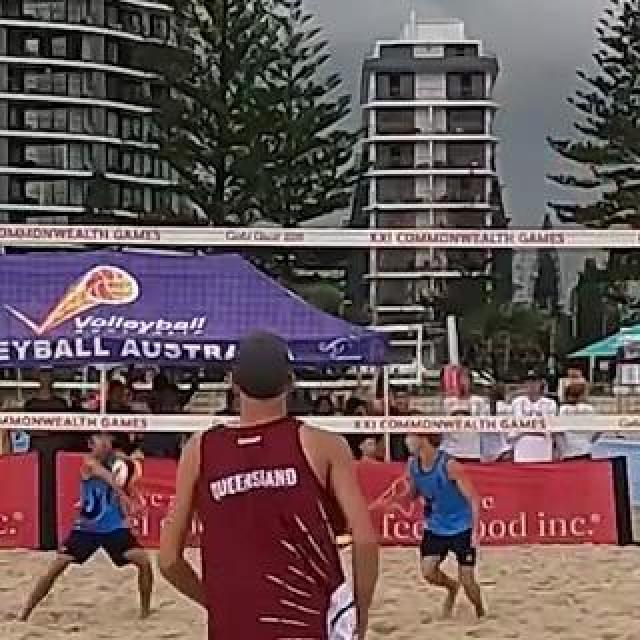volleyball: (110, 456, 144, 488)
